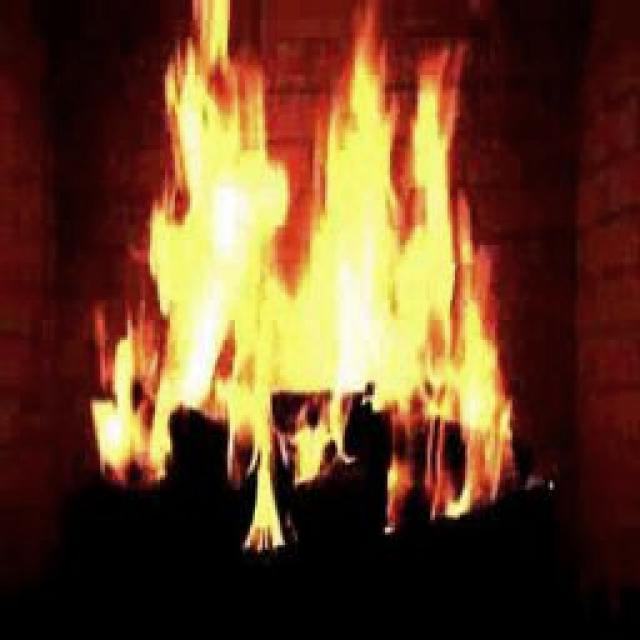Fire: (113, 29, 471, 477)
